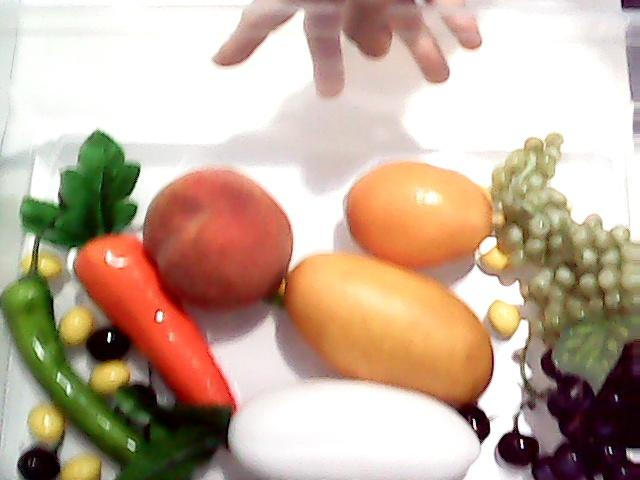carrot: (22, 125, 238, 418)
grape: (492, 126, 640, 352), (542, 327, 640, 480)
lemon: (334, 150, 511, 274)
mango: (278, 251, 496, 405)
peach: (140, 168, 292, 312)
pepper: (3, 232, 185, 468)
radish: (122, 375, 482, 480)
